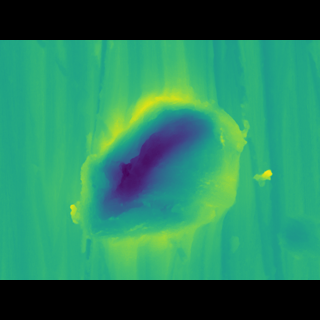Loch: (58, 95, 255, 228)
